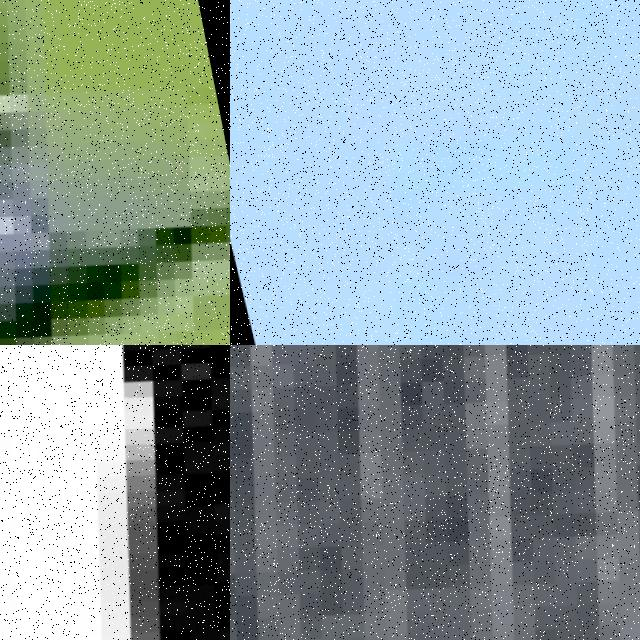drone: (230, 0, 640, 345), (230, 345, 640, 640), (0, 0, 230, 345), (0, 345, 230, 640)
